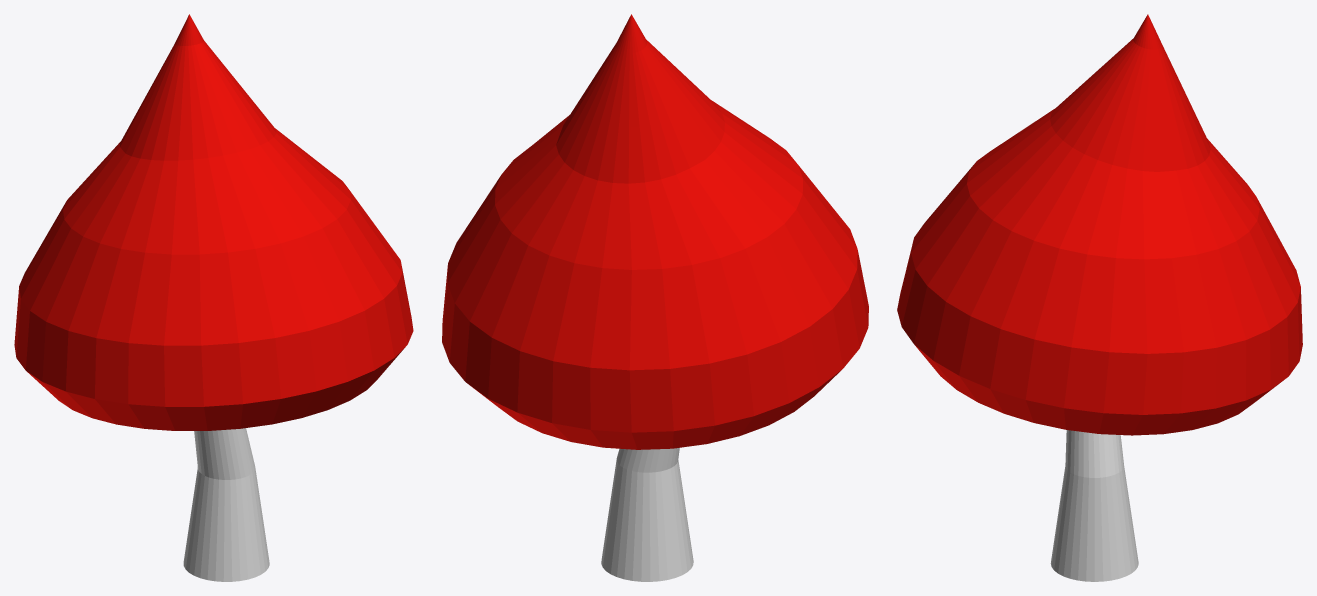
Rendered from Grzybek2.fbx.
The picture shows the model from 3 angles, left to right: view 1: azimuth 30°, elevation 25°; view 2: azimuth 150°, elevation 25°; view 3: azimuth 270°, elevation 25°; orthographic projection. The views are drawn at different scales.
Parts seen in each view (by area): view 1: Circle.005; view 2: Circle.005; view 3: Circle.005.
Boxes of the visible parts, bbox=[...] form: Circle.005: bbox=[14, 14, 413, 581]; Circle.005: bbox=[442, 14, 868, 581]; Circle.005: bbox=[897, 14, 1302, 581].
Bounding box in the file's own units: 753 × 1108 × 749.
